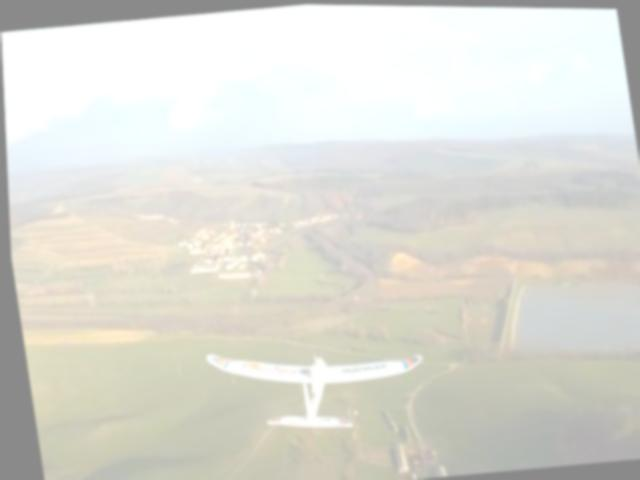iha: (204, 333, 425, 441)
